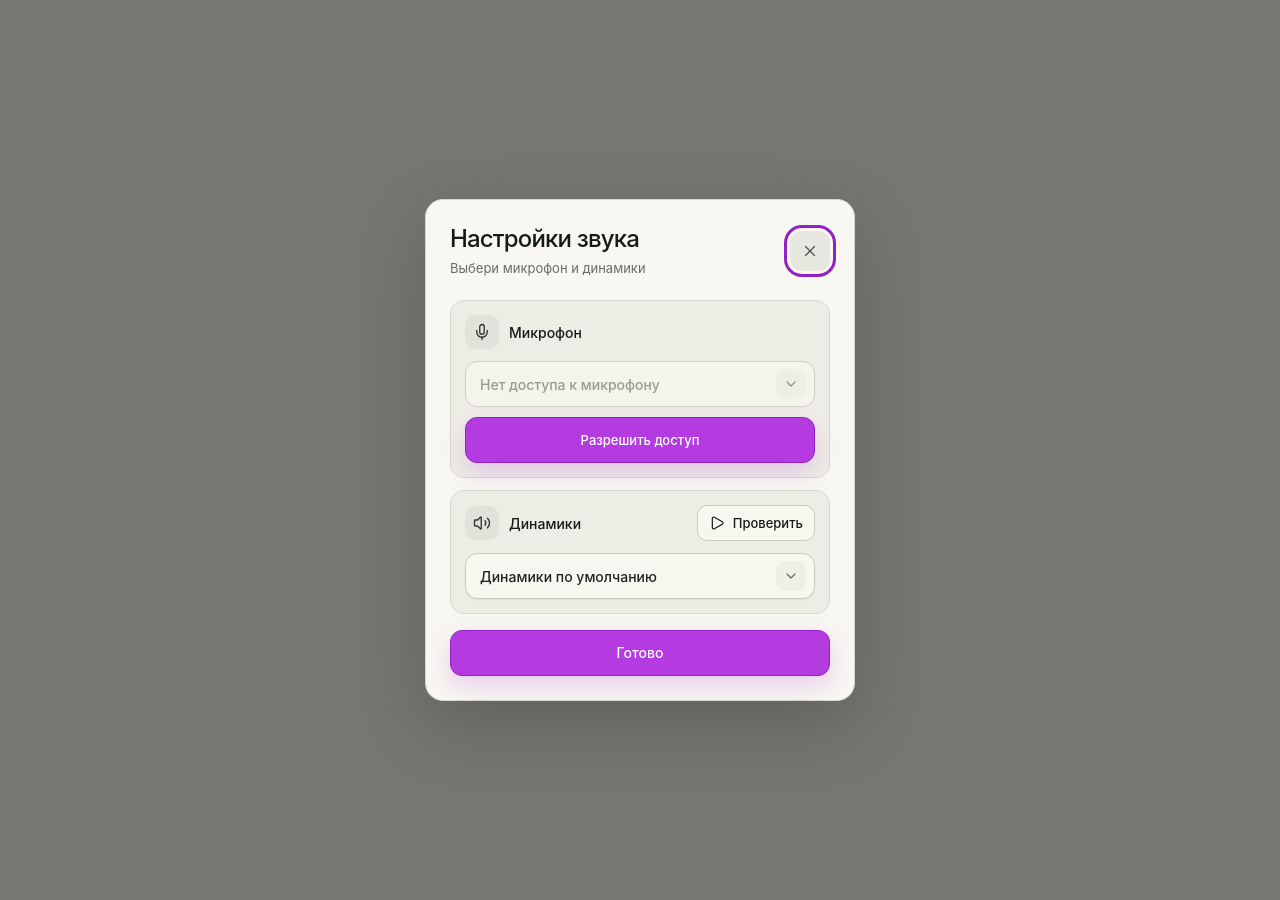
Test: audio settings › keeps a permission retry action after NotFoundError
The width and height of the screenshot is (1280, 900).
Click the button "Разрешить доступ".
click(640, 440)  # box [465,417,815,463]
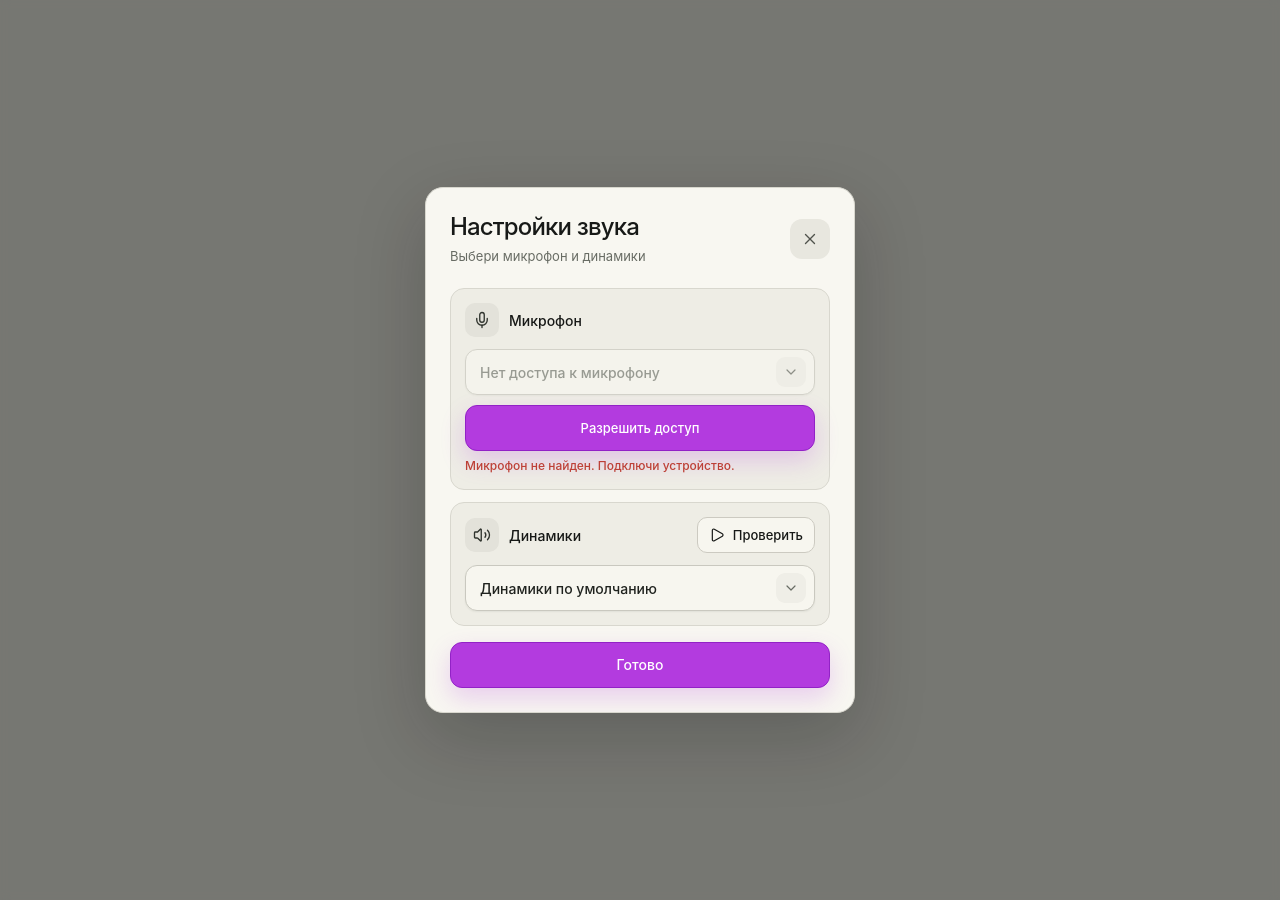
Check: the button "Разрешить доступ" is enabled, box [465,405,815,451]
Check: the message reads "Микрофон не найден. Подключи устройство.", box [465,458,735,473]
